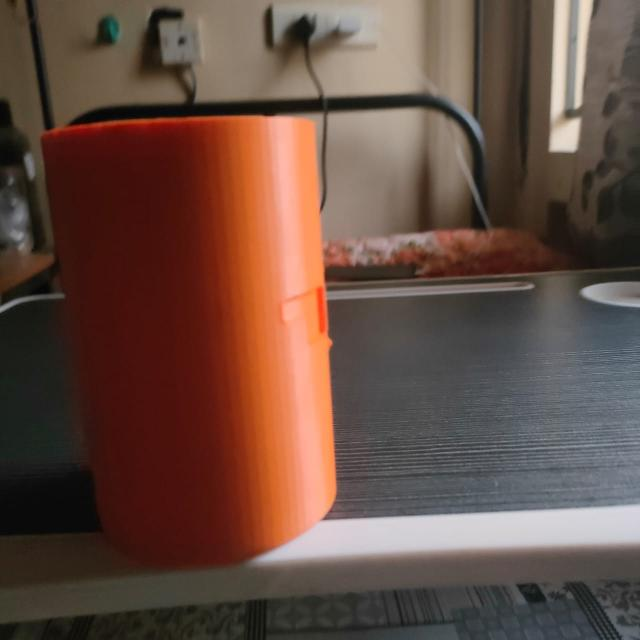Cylinder: (40, 114, 338, 568)
